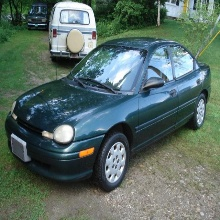no damage: (5, 36, 212, 192), (48, 2, 98, 64), (25, 4, 51, 29)
